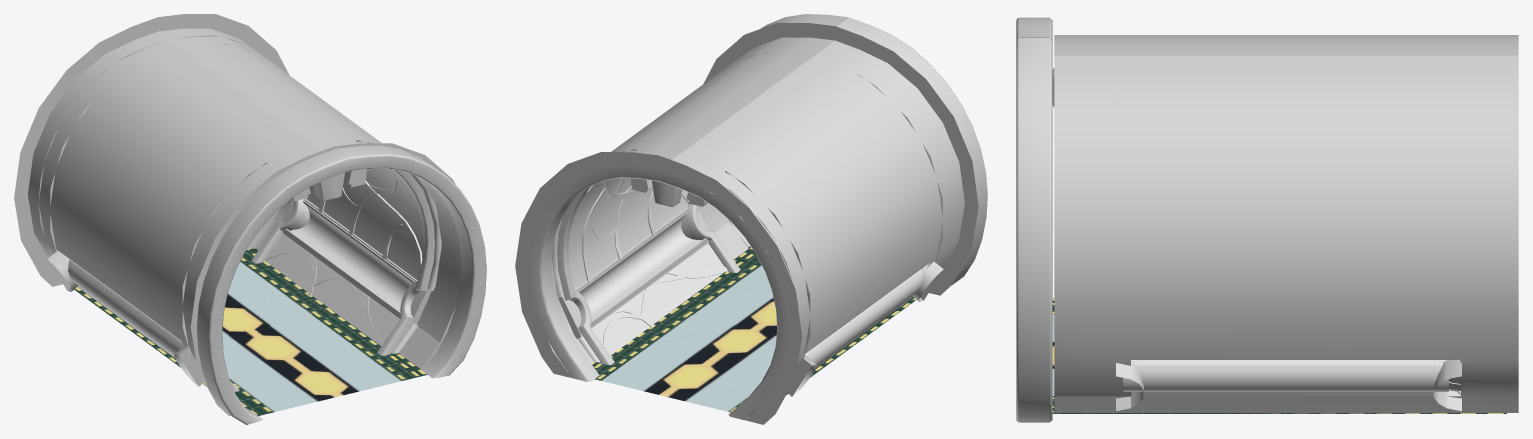
File: Hallway_Final_straight_no_door.fbx
The picture shows the model from 3 angles, left to right: view 1: azimuth 30°, elevation 25°; view 2: azimuth 150°, elevation 25°; view 3: azimuth 270°, elevation 25°; orthographic projection. The views are drawn at different scales.
Parts seen in each view (by area): view 1: polySurface7190; view 2: polySurface7190; view 3: polySurface7190.
Part boxes in pixels (x1=…): polySurface7190: x1=14, y1=14, x2=486, y2=424; polySurface7190: x1=515, y1=14, x2=987, y2=424; polySurface7190: x1=1016, y1=17, x2=1518, y2=422.
Bounding box in the file's own units: 936 × 762 × 1079.
6 materials, 1 textured.
